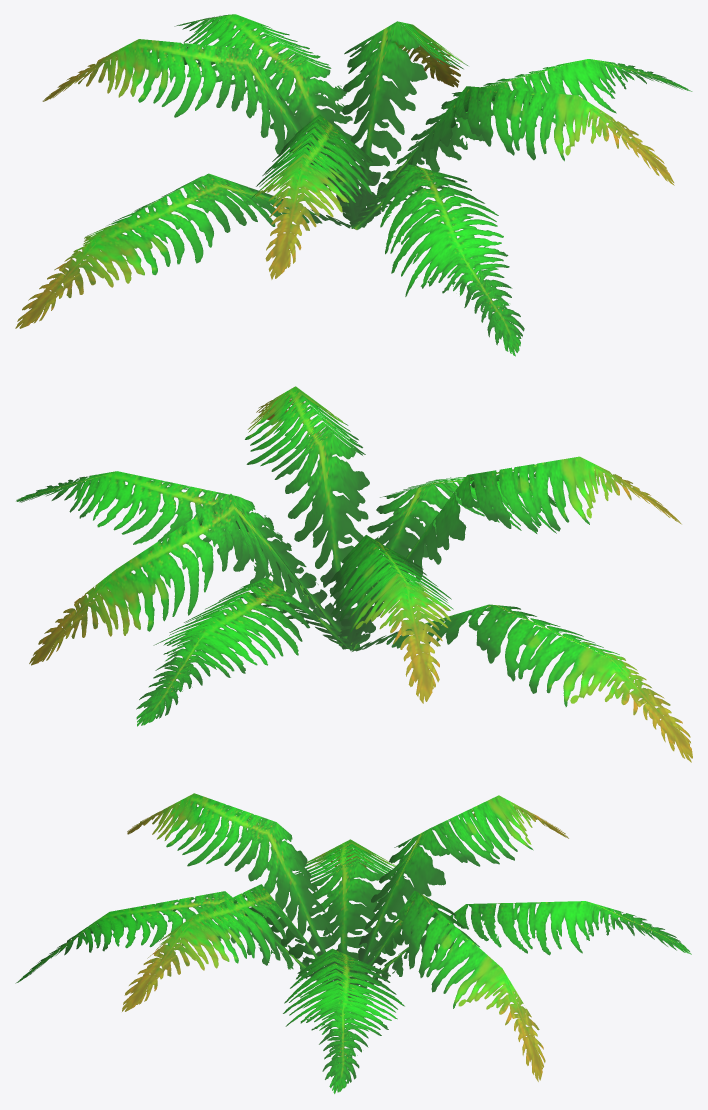
Rendered from bush08.obj.
3 renders of one model, top to bottom at view 1: azimuth 30°, elevation 25°; view 2: azimuth 150°, elevation 25°; view 3: azimuth 270°, elevation 25°, orthographic. The views are drawn at different scales.
Visible parts, largest first — view 1: Duplicate03, Duplicate02, Triangles, Duplicate01; view 2: Duplicate03, Duplicate02, Triangles, Duplicate01; view 3: Duplicate03, Duplicate02, Duplicate01, Triangles.
Part boxes in pixels (x1=…): Duplicate03: x1=42, y1=21, x2=674, y2=279; Duplicate02: x1=174, y1=14, x2=524, y2=356; Triangles: x1=15, y1=173, x2=355, y2=328; Duplicate01: x1=351, y1=59, x2=692, y2=229; Duplicate03: x1=29, y1=386, x2=681, y2=703; Duplicate02: x1=136, y1=477, x2=556, y2=726; Triangles: x1=351, y1=604, x2=692, y2=762; Duplicate01: x1=16, y1=471, x2=354, y2=650; Duplicate03: x1=122, y1=793, x2=568, y2=1081; Duplicate02: x1=15, y1=891, x2=691, y2=996; Duplicate01: x1=283, y1=948, x2=404, y2=1093; Triangles: x1=292, y1=839, x2=406, y2=983.
Bounding box in the file's own units: 63.35 × 16.78 × 60.96.
